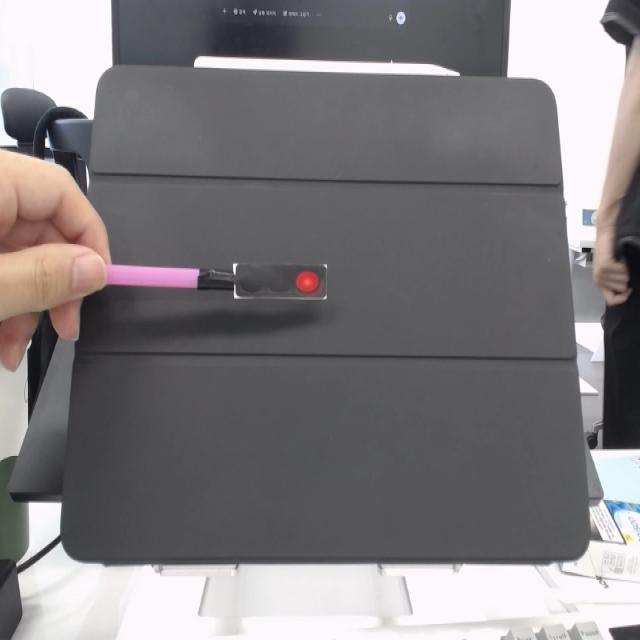traffic light: (229, 260, 331, 304)
